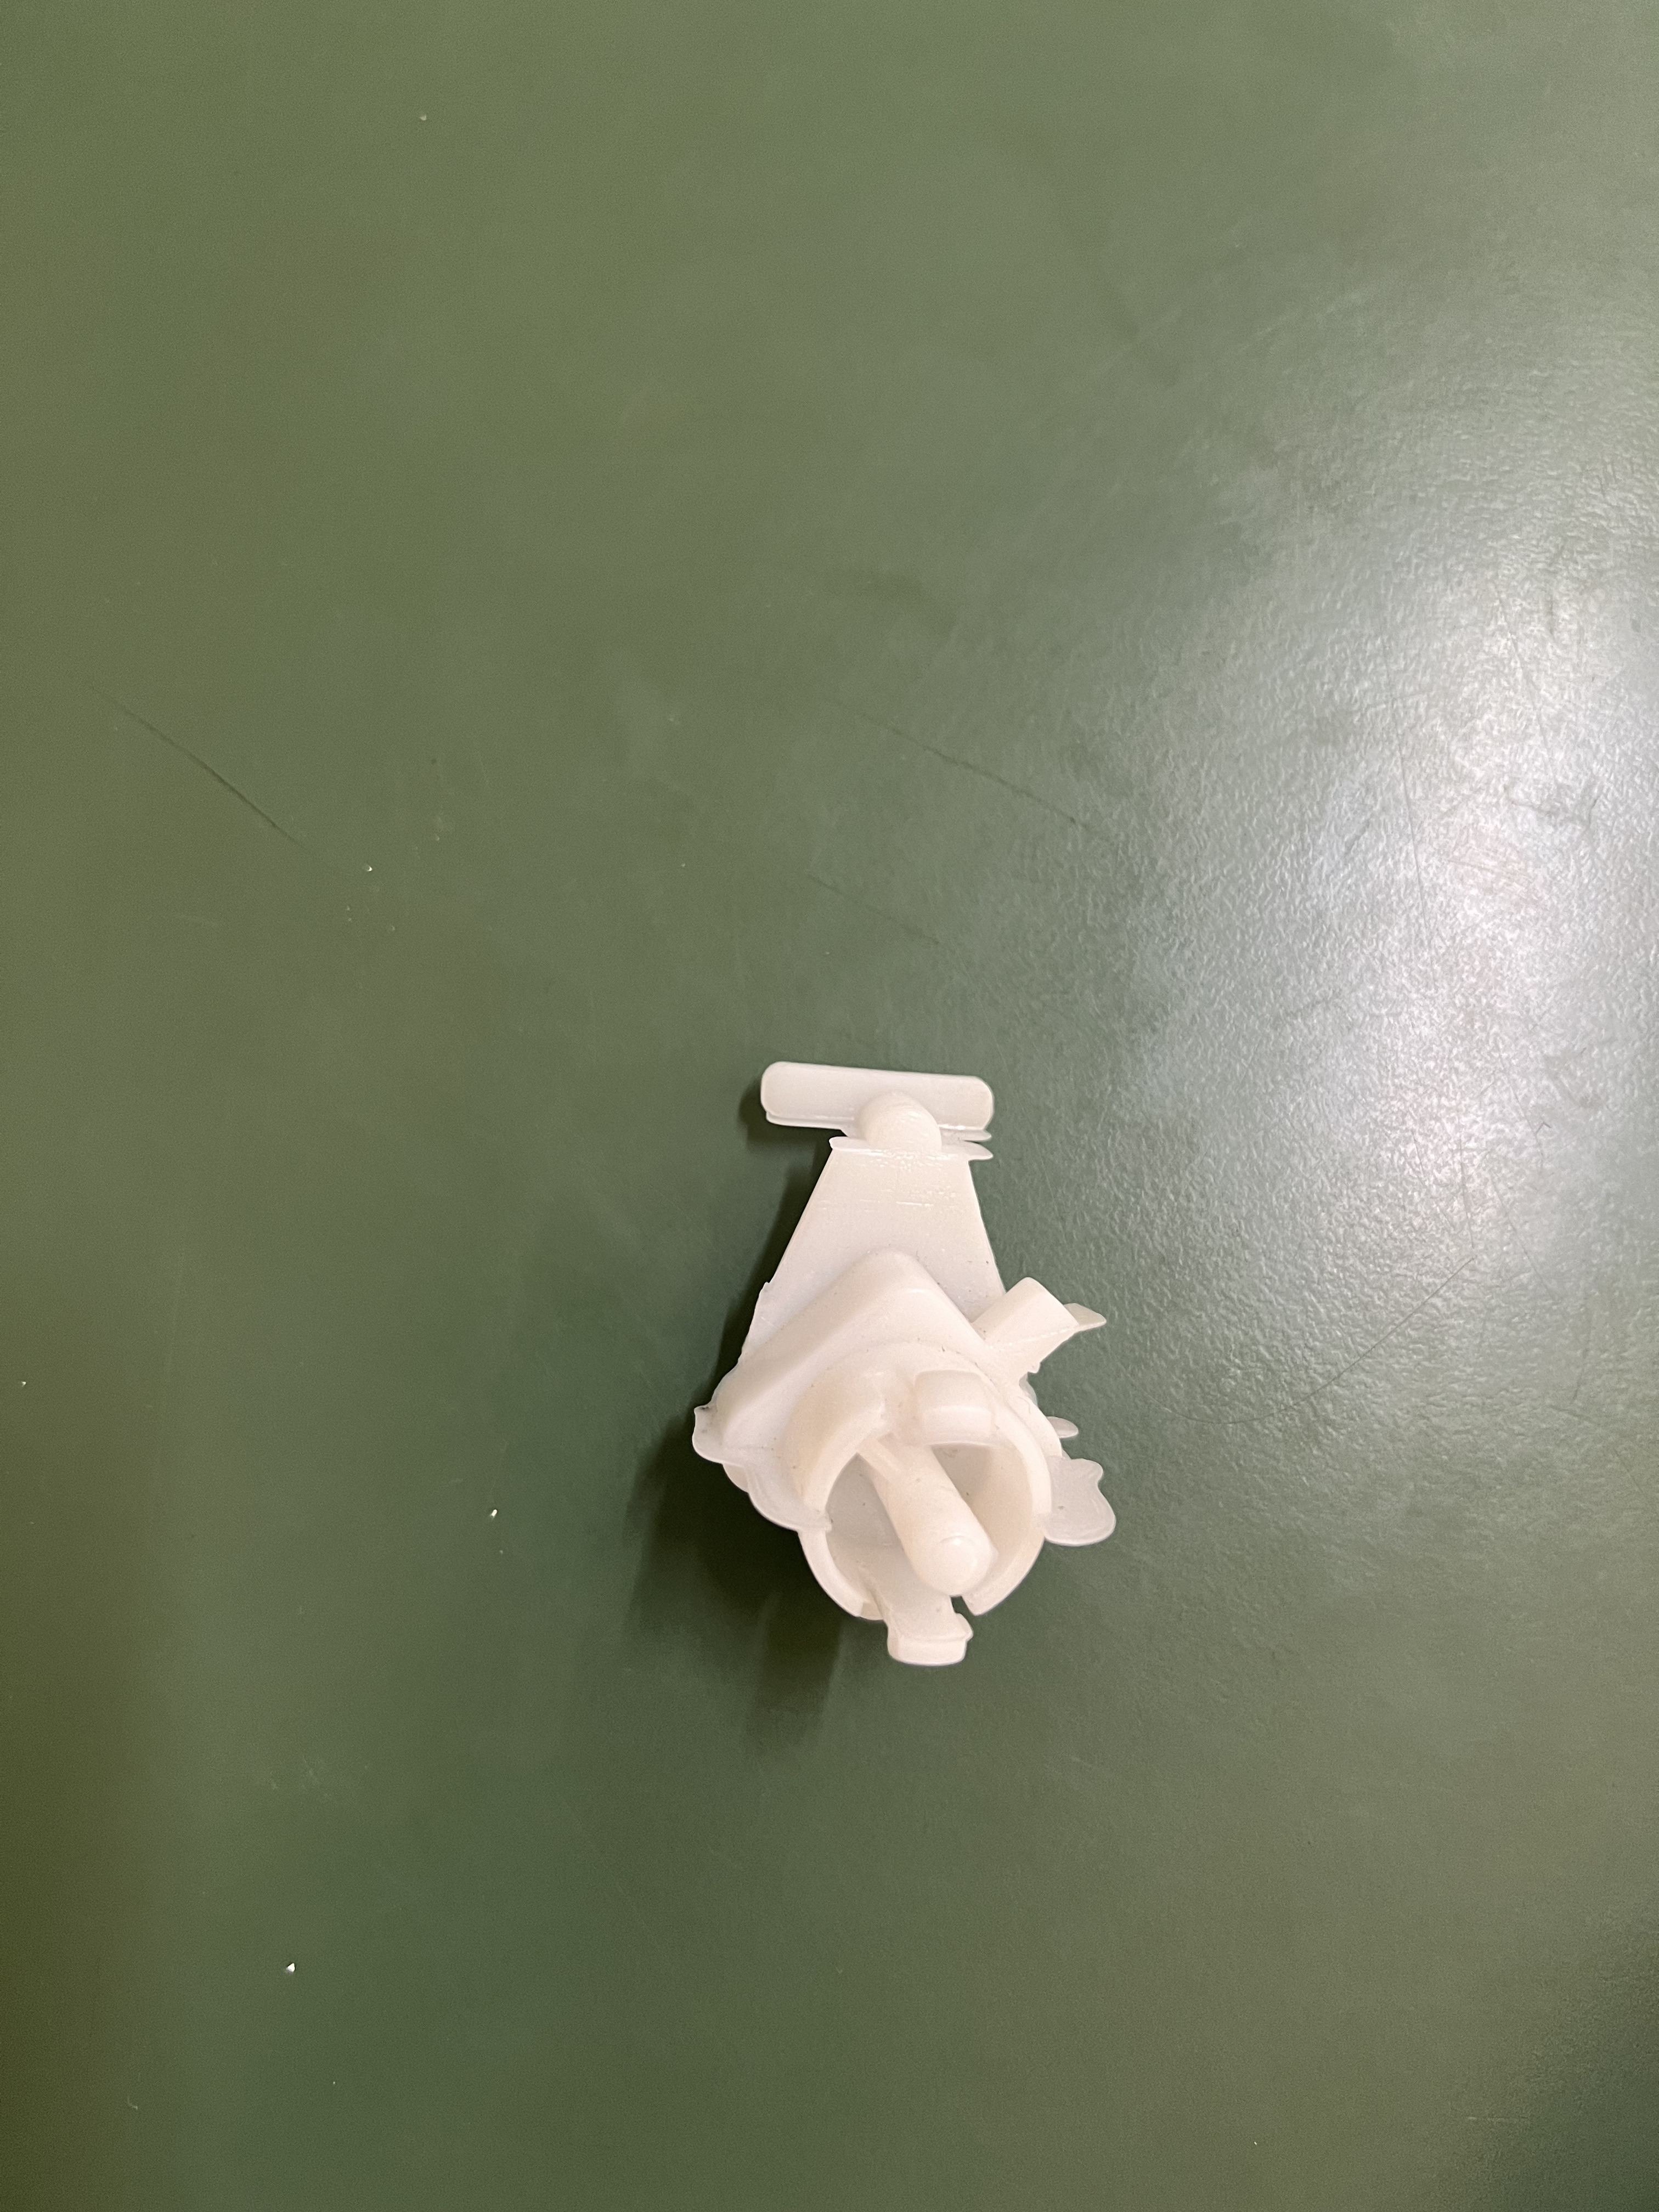drain_lever: (657, 1038, 1129, 1696)
